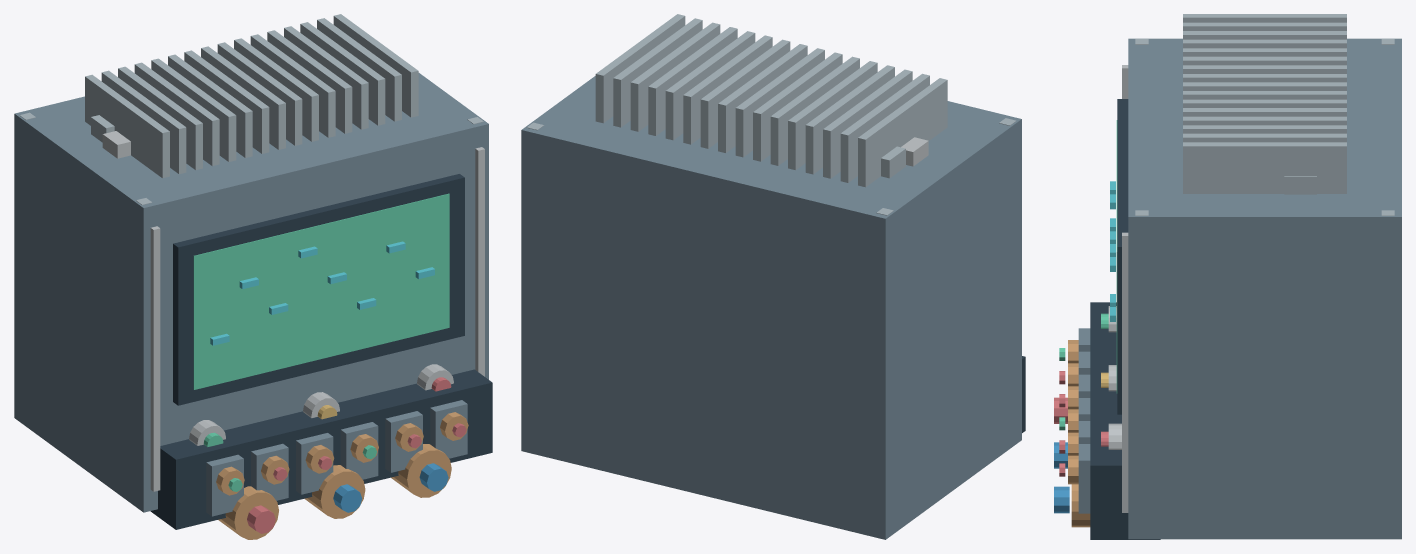
Rendered from 57_L75_Regulated5VControlSupply.glb.
3 views of the same model, side by side, from view 1: azimuth 30°, elevation 25°; view 2: azimuth 150°, elevation 25°; view 3: azimuth 270°, elevation 25° (orthographic). The views are drawn at different scales.
Visible parts, largest first — view 1: Regulated5VControlSupply_Node_0000, Regulated5VControlSupply_Node_0008, Regulated5VControlSupply_Node_0036, Regulated5VControlSupply_Node_0007, Regulated5VControlSupply_Node_0061, Regulated5VControlSupply_Node_0005, Regulated5VControlSupply_Node_0006, Regulated5VControlSupply_Node_0072, Regulated5VControlSupply_Node_0074, Regulated5VControlSupply_Node_0065, Regulated5VControlSupply_Node_0067, Regulated5VControlSupply_Node_0062 (+24 smaller); view 2: Regulated5VControlSupply_Node_0000, Regulated5VControlSupply_Node_0061, Regulated5VControlSupply_Node_0074, Regulated5VControlSupply_Node_0072, Regulated5VControlSupply_Node_0076, Regulated5VControlSupply_Node_0070, Regulated5VControlSupply_Node_0062, Regulated5VControlSupply_Node_0065, Regulated5VControlSupply_Node_0067, Regulated5VControlSupply_Node_0064, Regulated5VControlSupply_Node_0071, Regulated5VControlSupply_Node_0075 (+6 smaller); view 3: Regulated5VControlSupply_Node_0000, Regulated5VControlSupply_Node_0076, Regulated5VControlSupply_Node_0036, Regulated5VControlSupply_Node_0007, Regulated5VControlSupply_Node_0006, Regulated5VControlSupply_Node_0064, Regulated5VControlSupply_Node_0066, Regulated5VControlSupply_Node_0073, Regulated5VControlSupply_Node_0075, Regulated5VControlSupply_Node_0061, Regulated5VControlSupply_Node_0062, Regulated5VControlSupply_Node_0063 (+13 smaller).
Part boxes in pixels (<box>): Regulated5VControlSupply_Node_0000: <box>14,73,488,512</box>; Regulated5VControlSupply_Node_0008: <box>193,193,449,389</box>; Regulated5VControlSupply_Node_0036: <box>150,369,492,529</box>; Regulated5VControlSupply_Node_0007: <box>173,174,464,405</box>; Regulated5VControlSupply_Node_0061: <box>85,74,169,178</box>; Regulated5VControlSupply_Node_0005: <box>150,226,160,491</box>; Regulated5VControlSupply_Node_0006: <box>475,147,484,376</box>; Regulated5VControlSupply_Node_0072: <box>267,30,352,133</box>; Regulated5VControlSupply_Node_0074: <box>300,22,385,125</box>; Regulated5VControlSupply_Node_0065: <box>151,58,236,161</box>; Regulated5VControlSupply_Node_0067: <box>184,50,269,153</box>; Regulated5VControlSupply_Node_0062: <box>101,70,186,174</box>; Regulated5VControlSupply_Node_0000: <box>521,76,1021,539</box>; Regulated5VControlSupply_Node_0061: <box>858,78,947,187</box>; Regulated5VControlSupply_Node_0074: <box>630,22,720,131</box>; Regulated5VControlSupply_Node_0072: <box>665,31,755,140</box>; Regulated5VControlSupply_Node_0076: <box>595,14,685,123</box>; Regulated5VControlSupply_Node_0070: <box>700,39,790,148</box>; Regulated5VControlSupply_Node_0062: <box>840,73,929,182</box>; Regulated5VControlSupply_Node_0065: <box>788,61,877,170</box>; Regulated5VControlSupply_Node_0067: <box>753,52,842,161</box>; Regulated5VControlSupply_Node_0064: <box>805,65,894,174</box>; Regulated5VControlSupply_Node_0071: <box>683,35,772,144</box>; Regulated5VControlSupply_Node_0075: <box>613,18,702,127</box>; Regulated5VControlSupply_Node_0000: <box>1128,38,1401,539</box>; Regulated5VControlSupply_Node_0076: <box>1183,142,1346,193</box>; Regulated5VControlSupply_Node_0036: <box>1090,302,1160,539</box>; Regulated5VControlSupply_Node_0007: <box>1117,99,1128,414</box>; Regulated5VControlSupply_Node_0006: <box>1122,232,1128,512</box>; Regulated5VControlSupply_Node_0064: <box>1183,39,1346,48</box>; Regulated5VControlSupply_Node_0066: <box>1183,56,1346,65</box>; Regulated5VControlSupply_Node_0073: <box>1183,116,1346,125</box>; Regulated5VControlSupply_Node_0075: <box>1183,133,1346,142</box>; Regulated5VControlSupply_Node_0061: <box>1183,14,1346,22</box>; Regulated5VControlSupply_Node_0062: <box>1183,22,1346,30</box>; Regulated5VControlSupply_Node_0063: <box>1183,31,1346,39</box>.
Bounding box in the file's own units: 1.08 × 1.13 × 0.89.
